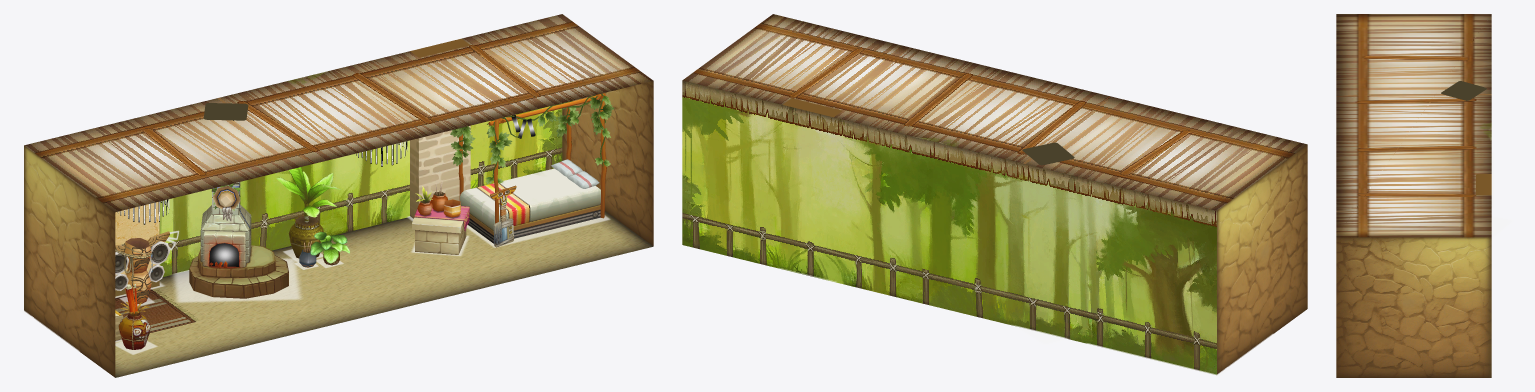
The model's file is bolivar.glb.
3 views of the same model, side by side, from view 1: azimuth 30°, elevation 25°; view 2: azimuth 150°, elevation 25°; view 3: azimuth 270°, elevation 25° (orthographic). The views are drawn at different scales.
Parts seen in each view (by area): view 1: ROOM_room, ROOM_floor, furni_bolivar_bed_01, furni_bolivar_fireplace_01, furni_bolivar_column_01, furni_bolivar_soundSystem_01, furni_bolivar_bed_02, furni_bolivar_coffeeTable_01, furni_bolivar_carpet_01, shadow_01.003, furni_bolivar_wall_01, ROOM_RDoor (+8 smaller); view 2: ROOM_room, ROOM_LDoor, furni_bolivar_fireplace_01; view 3: ROOM_room, ROOM_RDoor, furni_bolivar_fireplace_01, furni_bolivar_column_01, shadow_01.003, shadow_01.008.
Boxes of the visible parts, box(x1,y1,x2,y2) form: ROOM_room: box(24, 14, 653, 377); ROOM_floor: box(115, 211, 653, 377); furni_bolivar_bed_01: box(458, 93, 606, 247); furni_bolivar_fireplace_01: box(189, 103, 288, 298); furni_bolivar_column_01: box(410, 38, 470, 218); furni_bolivar_soundSystem_01: box(115, 231, 169, 303); furni_bolivar_bed_02: box(450, 95, 614, 184); furni_bolivar_coffeeTable_01: box(412, 206, 468, 254); furni_bolivar_carpet_01: box(115, 289, 198, 341); shadow_01.003: box(172, 258, 301, 302); furni_bolivar_wall_01: box(115, 202, 159, 296); ROOM_RDoor: box(621, 148, 640, 236); ROOM_room: box(682, 14, 1307, 374); ROOM_LDoor: box(1275, 244, 1294, 331); furni_bolivar_fireplace_01: box(1022, 142, 1074, 165); ROOM_room: box(1336, 14, 1491, 377); ROOM_RDoor: box(1359, 314, 1390, 377); furni_bolivar_fireplace_01: box(1441, 81, 1486, 100); furni_bolivar_column_01: box(1476, 174, 1491, 195); shadow_01.003: box(1491, 216, 1512, 238); shadow_01.008: box(1491, 152, 1493, 207).
Size of the model in its own units: 7.59 by 2.2 by 2.61.
Materials: 9 (9 with a texture image).
